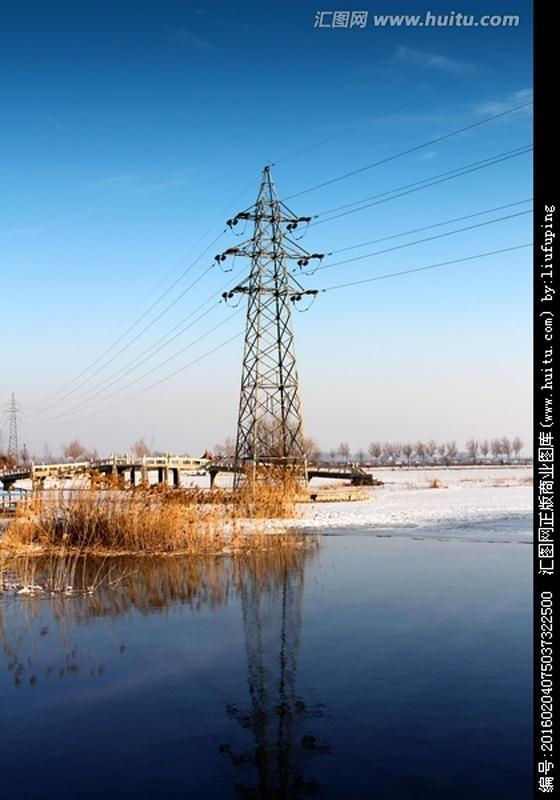power_tower: (217, 161, 319, 479), (2, 388, 26, 462)
